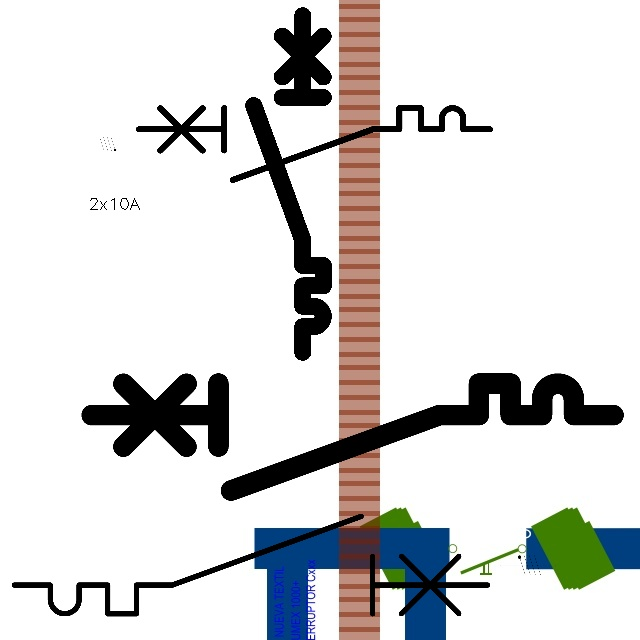interruptor_termomagnetico: (78, 370, 627, 504), (2, 504, 500, 626), (129, 99, 498, 189), (245, 7, 332, 361)
